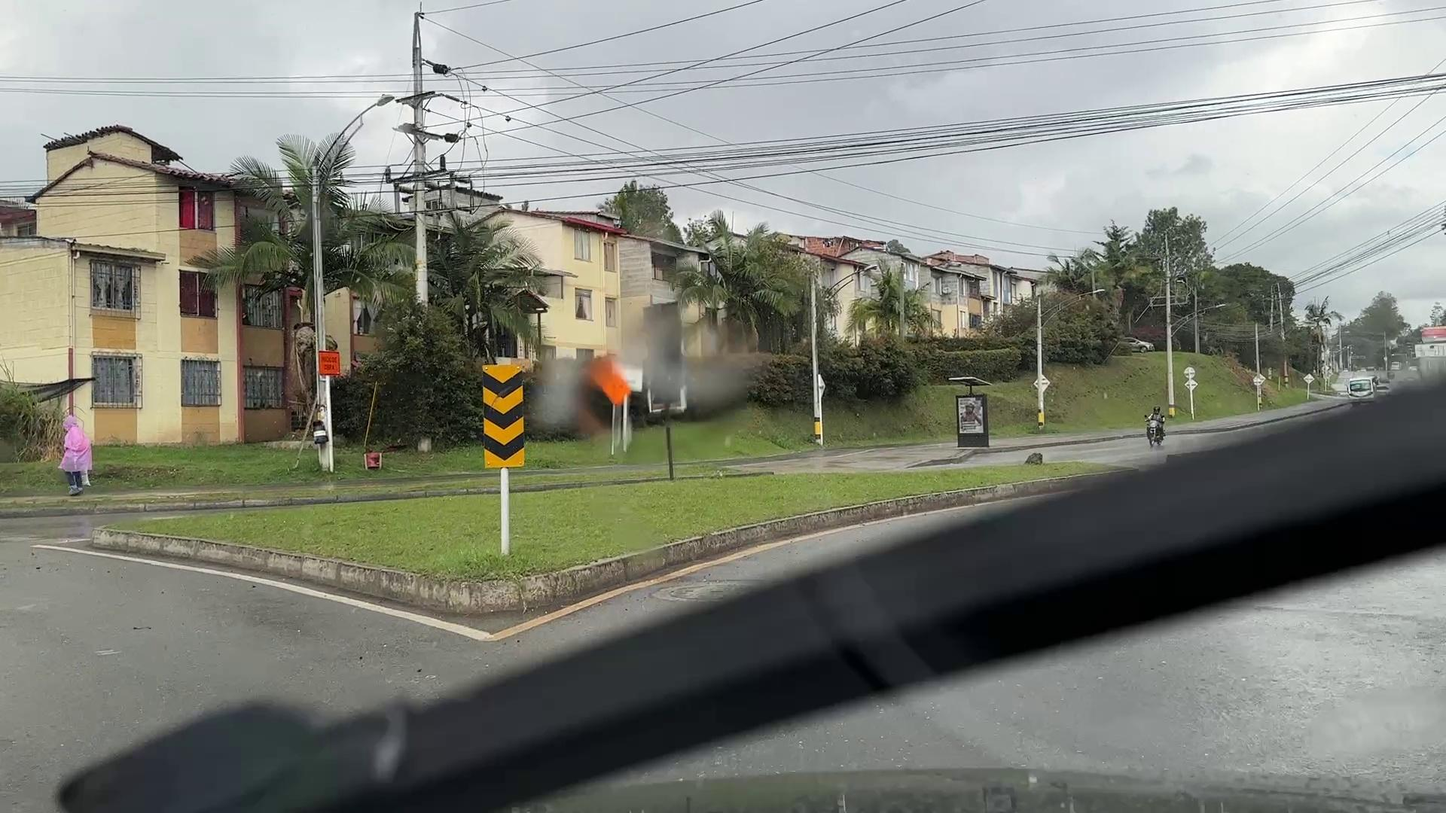registro: (671, 585, 766, 601)
